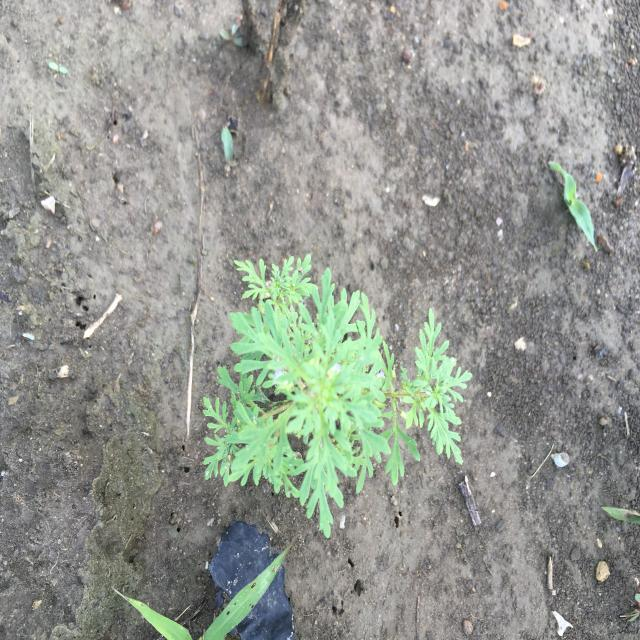Ragweed: (201, 252, 473, 542)
